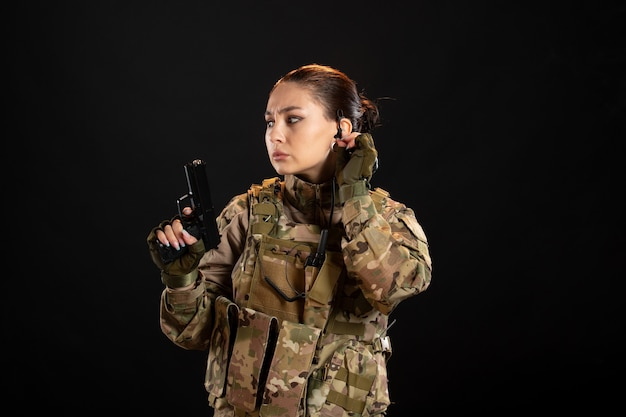gun: (157, 159, 221, 256)
